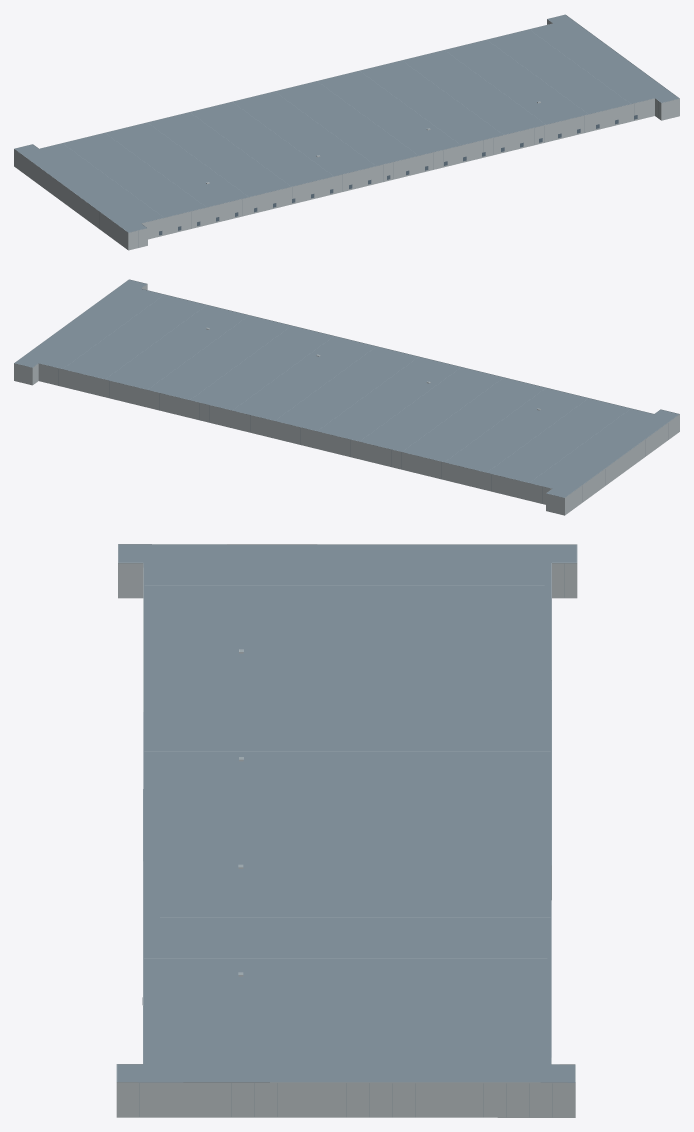
The model's file is SM_MPR_Env_Near_Buildings.fbx.
3 views of the same model, one above another, from view 1: azimuth 30°, elevation 25°; view 2: azimuth 150°, elevation 25°; view 3: azimuth 270°, elevation 25° (orthographic). The views are drawn at different scales.
Visible parts, largest first — view 1: SM_MPR_Env_Near_Buildings; view 2: SM_MPR_Env_Near_Buildings; view 3: SM_MPR_Env_Near_Buildings.
Part boxes in pixels (<box>): SM_MPR_Env_Near_Buildings: <box>14,14,679,250</box>; SM_MPR_Env_Near_Buildings: <box>14,279,679,515</box>; SM_MPR_Env_Near_Buildings: <box>116,544,577,1117</box>.
Bounding box in the file's own units: 46109 × 16668 × 1463.
